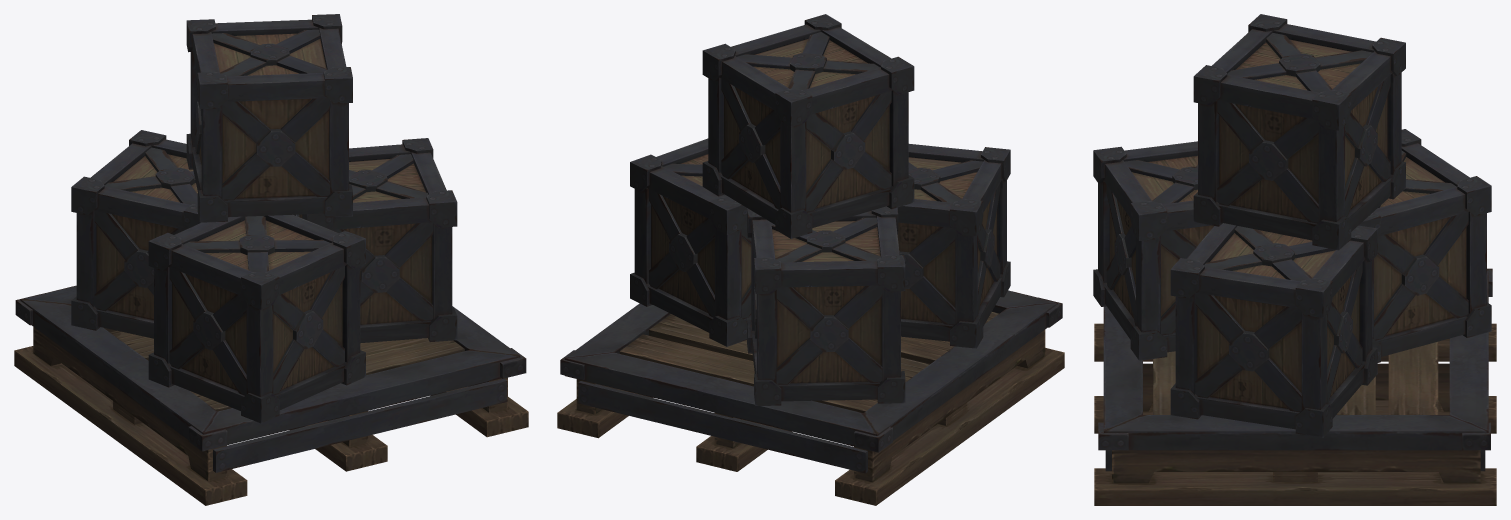
File: AHBoxL4.FBX
3 views of the same model, side by side, from view 1: azimuth 30°, elevation 25°; view 2: azimuth 150°, elevation 25°; view 3: azimuth 270°, elevation 25° (orthographic). The views are drawn at different scales.
Visible parts, largest first — view 1: AHBoxL4; view 2: AHBoxL4; view 3: AHBoxL4.
Part boxes in pixels (x1,y1,x2,y2): AHBoxL4: (14,14,528,505); AHBoxL4: (557,14,1064,505); AHBoxL4: (1093,14,1496,505).
Size of the model in its own units: 1.91 by 1.9 by 1.91.
1 material, 1 textured.
